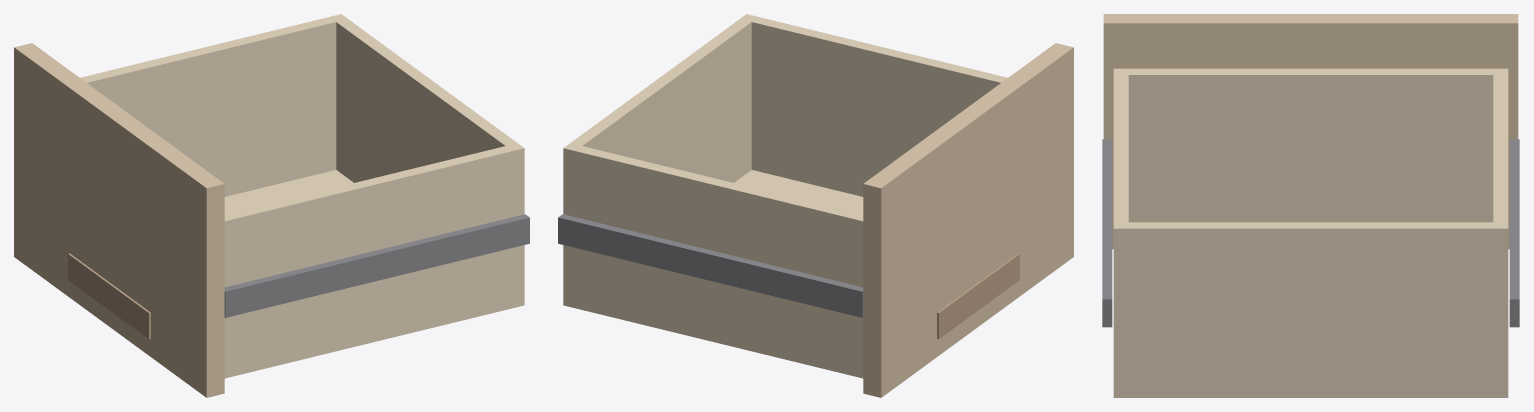
The model's file is drawer_middle.glb.
3 renders of one model, left to right at view 1: azimuth 30°, elevation 25°; view 2: azimuth 150°, elevation 25°; view 3: azimuth 270°, elevation 25°, orthographic. The views are drawn at different scales.
Visible parts, largest first — view 1: front, wall_z1, wall_z0, wall_x1, rail_r, floor, pull, wall_x0; view 2: front, wall_z0, wall_z1, wall_x1, rail_l, floor, pull, wall_x0; view 3: wall_x1, wall_x0, front, floor, wall_z0, wall_z1, rail_l, rail_r.
Part boxes in pixels (box(x1,y1,x2,y2)): front: box(14, 43, 224, 397); wall_z1: box(225, 146, 512, 367); wall_z0: box(80, 17, 336, 196); wall_x1: box(330, 14, 524, 298); rail_r: box(224, 214, 529, 317); floor: box(224, 170, 524, 378); pull: box(68, 253, 150, 338); wall_x0: box(224, 214, 231, 368); front: box(863, 43, 1073, 397); wall_z0: box(575, 146, 862, 367); wall_z1: box(751, 17, 1007, 196); wall_x1: box(563, 14, 757, 298); rail_l: box(558, 214, 863, 317); floor: box(563, 170, 863, 378); pull: box(937, 253, 1019, 338); wall_x0: box(856, 214, 863, 368); wall_x1: box(1113, 222, 1508, 387); wall_x0: box(1113, 68, 1508, 222); front: box(1103, 14, 1518, 249); floor: box(1113, 388, 1508, 397); wall_z0: box(1493, 75, 1508, 222); wall_z1: box(1113, 75, 1128, 222); rail_l: box(1509, 139, 1519, 327); rail_r: box(1102, 139, 1112, 327).
Size of the model in its own units: 0.324 by 0.2 by 0.335.
